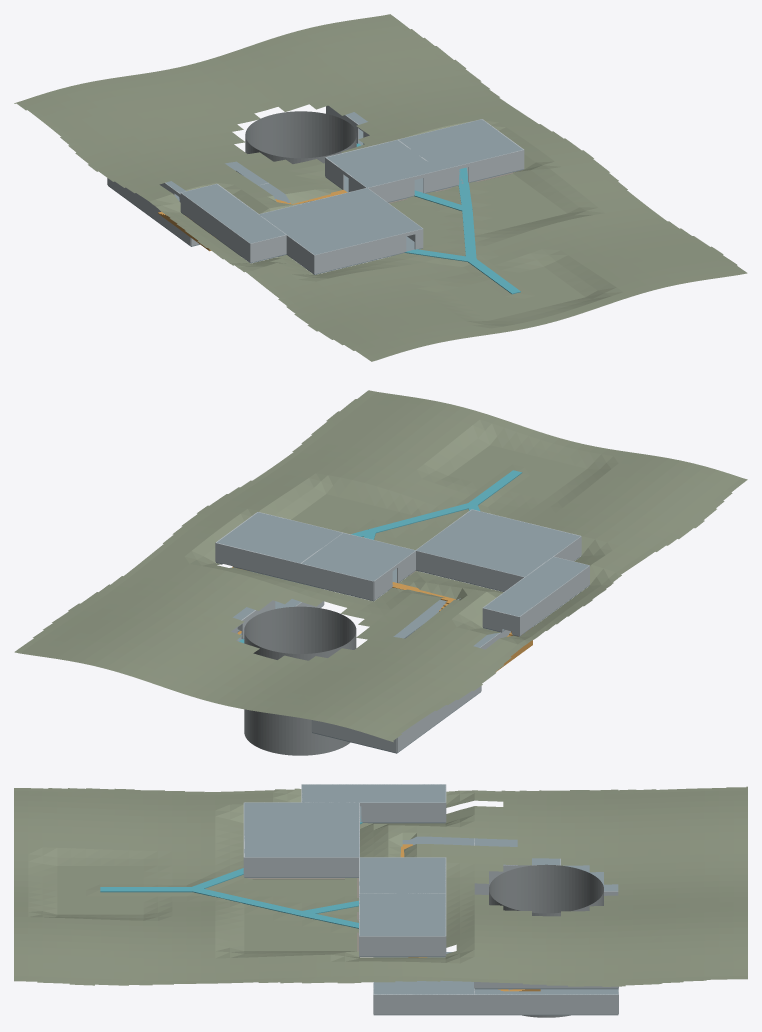
Rendered from connected-stairs.glb.
3 views of the same model, one above another, from view 1: azimuth 30°, elevation 25°; view 2: azimuth 150°, elevation 25°; view 3: azimuth 270°, elevation 25° (orthographic). The views are drawn at different scales.
Visible parts, largest first — view 1: Saved editor terrain WLD-18, Ceiling cap servicehouse, EMPTY SHAFT / guard engineering pending, Ceiling cap shop, Ceiling cap head, Ceiling cap exit, Wall servicehouse S, Wall exit W, Wall shop S.001, Wall head S, Wall exit S, Wall servicehouse W.001; view 2: Saved editor terrain WLD-18, EMPTY SHAFT / guard engineering pending, Ceiling cap servicehouse, Ceiling cap shop, Ceiling cap head, Ceiling cap exit, Wall servicehouse N, Wall shop N, Wall head N, Wall exit W, Wall pump N, Opened stair shell Wall exit N (+2 smaller); view 3: Saved editor terrain WLD-18, Ceiling cap servicehouse, EMPTY SHAFT / guard engineering pending, Ceiling cap shop, Ceiling cap head, Wall east E, Ceiling cap exit, Wall servicehouse E, Wall plant E, Wall shop E, Wall exit E, Ceiling cap plant (+4 smaller).
Boxes of the visible parts, bbox=[...] form: Saved editor terrain WLD-18: bbox=[14, 14, 747, 361]; Ceiling cap servicehouse: bbox=[259, 188, 422, 254]; EMPTY SHAFT / guard engineering pending: bbox=[245, 111, 356, 256]; Ceiling cap shop: bbox=[399, 119, 522, 170]; Ceiling cap head: bbox=[326, 140, 438, 187]; Ceiling cap exit: bbox=[181, 184, 285, 243]; Wall servicehouse S: bbox=[314, 233, 406, 273]; Wall exit W: bbox=[180, 193, 250, 262]; Wall shop S.001: bbox=[468, 149, 524, 182]; Wall head S: bbox=[368, 176, 414, 201]; Wall exit S: bbox=[250, 234, 286, 262]; Wall servicehouse W.001: bbox=[264, 218, 314, 273]; Saved editor terrain WLD-18: bbox=[14, 390, 747, 742]; EMPTY SHAFT / guard engineering pending: bbox=[244, 606, 356, 755]; Ceiling cap servicehouse: bbox=[416, 509, 580, 576]; Ceiling cap shop: bbox=[217, 512, 341, 563]; Ceiling cap head: bbox=[302, 533, 415, 581]; Ceiling cap exit: bbox=[483, 557, 589, 616]; Wall servicehouse N: bbox=[416, 550, 523, 591]; Wall shop N: bbox=[215, 542, 300, 582]; Wall head N: bbox=[300, 563, 373, 600]; Wall exit W: bbox=[519, 565, 589, 635]; Wall pump N: bbox=[311, 720, 396, 752]; Opened stair shell Wall exit N: bbox=[482, 608, 519, 635]; Saved editor terrain WLD-18: bbox=[14, 786, 747, 986]; Ceiling cap servicehouse: bbox=[244, 802, 359, 857]; EMPTY SHAFT / guard engineering pending: bbox=[489, 864, 603, 1017]; Ceiling cap shop: bbox=[359, 894, 445, 936]; Ceiling cap head: bbox=[359, 857, 445, 893]; Wall east E: bbox=[474, 994, 618, 1014]; Ceiling cap exit: bbox=[302, 784, 445, 802]; Wall servicehouse E: bbox=[244, 857, 358, 877]; Wall plant E: bbox=[373, 994, 474, 1014]; Wall shop E: bbox=[359, 936, 445, 956]; Wall exit E: bbox=[361, 802, 445, 822]; Ceiling cap plant: bbox=[373, 952, 474, 994].
Size of the model in its own units: 64 by 19 by 102.
